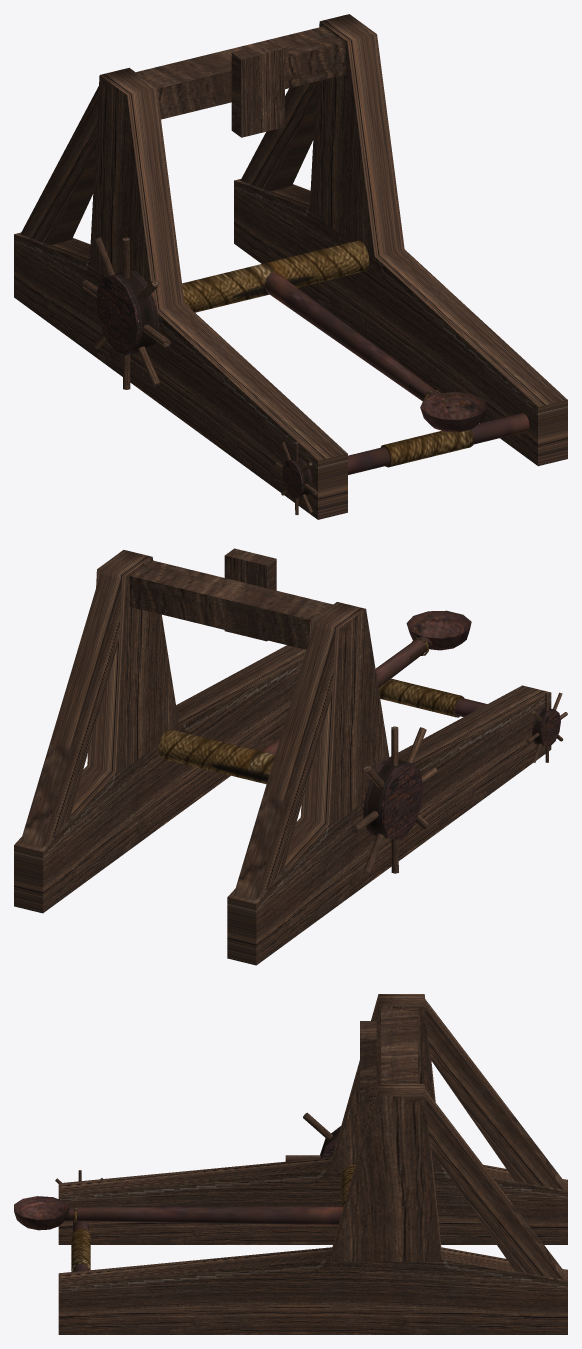
File: Mangonel_cataplut.FBX
3 renders of one model, top to bottom at view 1: azimuth 30°, elevation 25°; view 2: azimuth 150°, elevation 25°; view 3: azimuth 270°, elevation 25°, orthographic. The views are drawn at different scales.
Visible parts, largest first — view 1: Box001, Cylinder005, Cylinder003, Cylinder002, Cylinder006, Cylinder007; view 2: Box001, Cylinder003, Cylinder002, Cylinder005, Cylinder006, Cylinder007; view 3: Box001, Cylinder005, Cylinder006, Cylinder003.
Boxes of the visible parts, <box> form: Box001: <box>14,14,567,519</box>; Cylinder005: <box>265,272,487,432</box>; Cylinder003: <box>81,237,170,389</box>; Cylinder002: <box>182,240,369,312</box>; Cylinder006: <box>348,413,529,474</box>; Cylinder007: <box>275,442,317,514</box>; Box001: <box>14,548,551,965</box>; Cylinder003: <box>351,726,437,873</box>; Cylinder002: <box>159,729,275,784</box>; Cylinder005: <box>261,610,471,754</box>; Cylinder006: <box>378,678,487,717</box>; Cylinder007: <box>526,692,567,762</box>; Box001: <box>58,994,567,1334</box>; Cylinder005: <box>14,1196,343,1230</box>; Cylinder006: <box>71,1221,90,1271</box>; Cylinder003: <box>285,1112,340,1161</box>.
Size of the model in its own units: 100 by 107 by 210.
